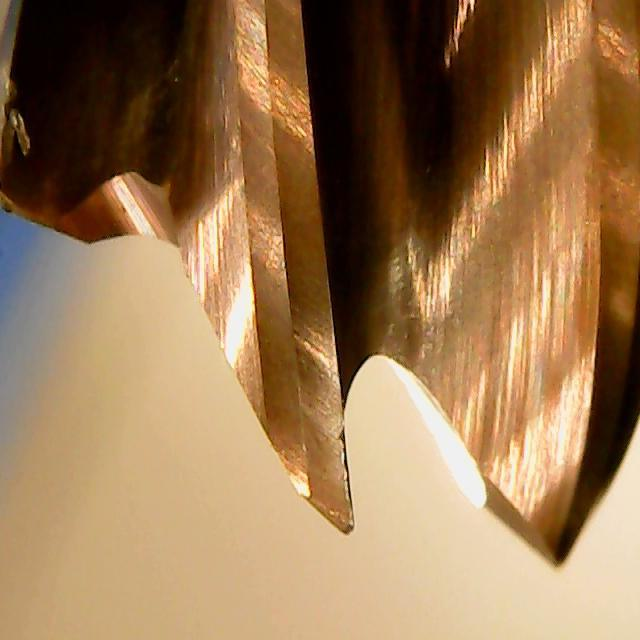Tool-wear-class-1: (253, 235, 363, 535)
